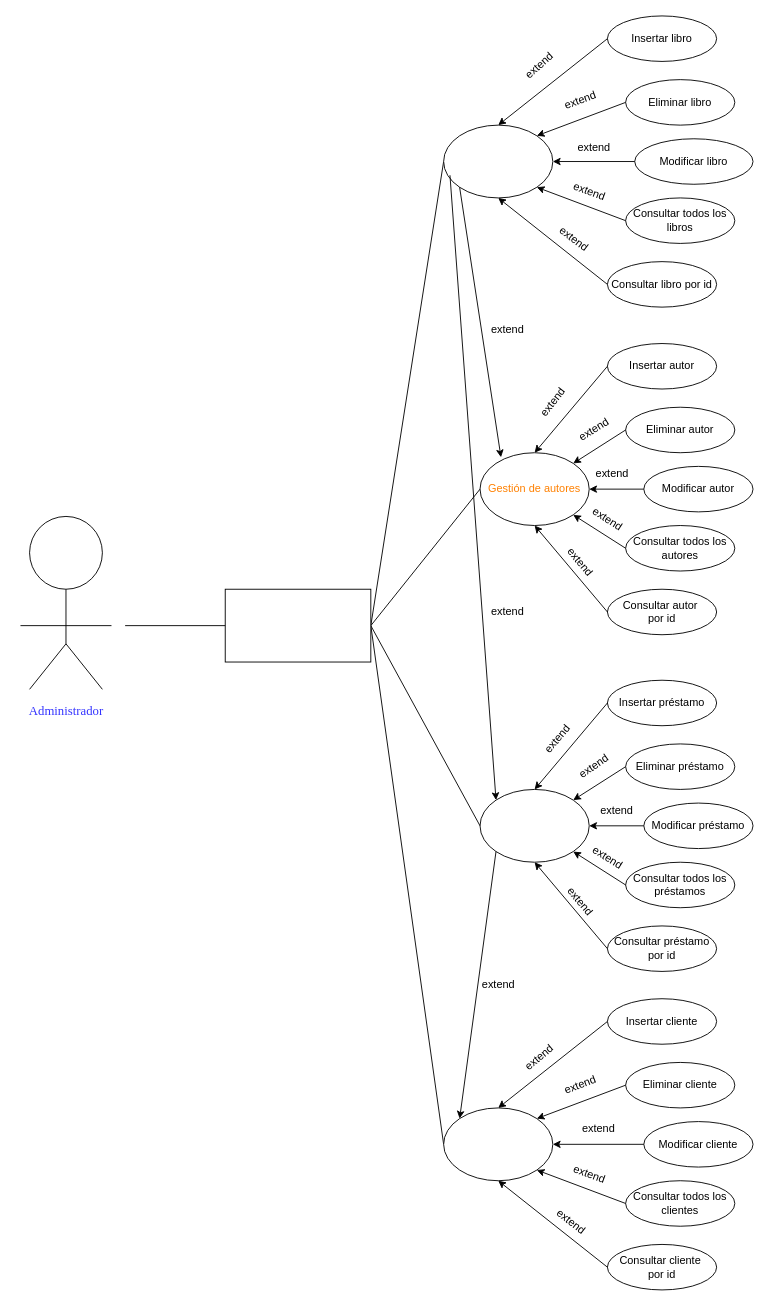
Image size: 769x1306. Some labels were removed from this diagram. The shapes that lost their labels are listed below. From the top down, each one's box as (x1, y1, x2, y2) in pixels, then its label:
(443, 124, 553, 198): Gestión de libros
(224, 588, 371, 662): Interfaz de usuario
(479, 789, 589, 862): Gestión de préstamos
(443, 1107, 553, 1181): Gestión de clientes
